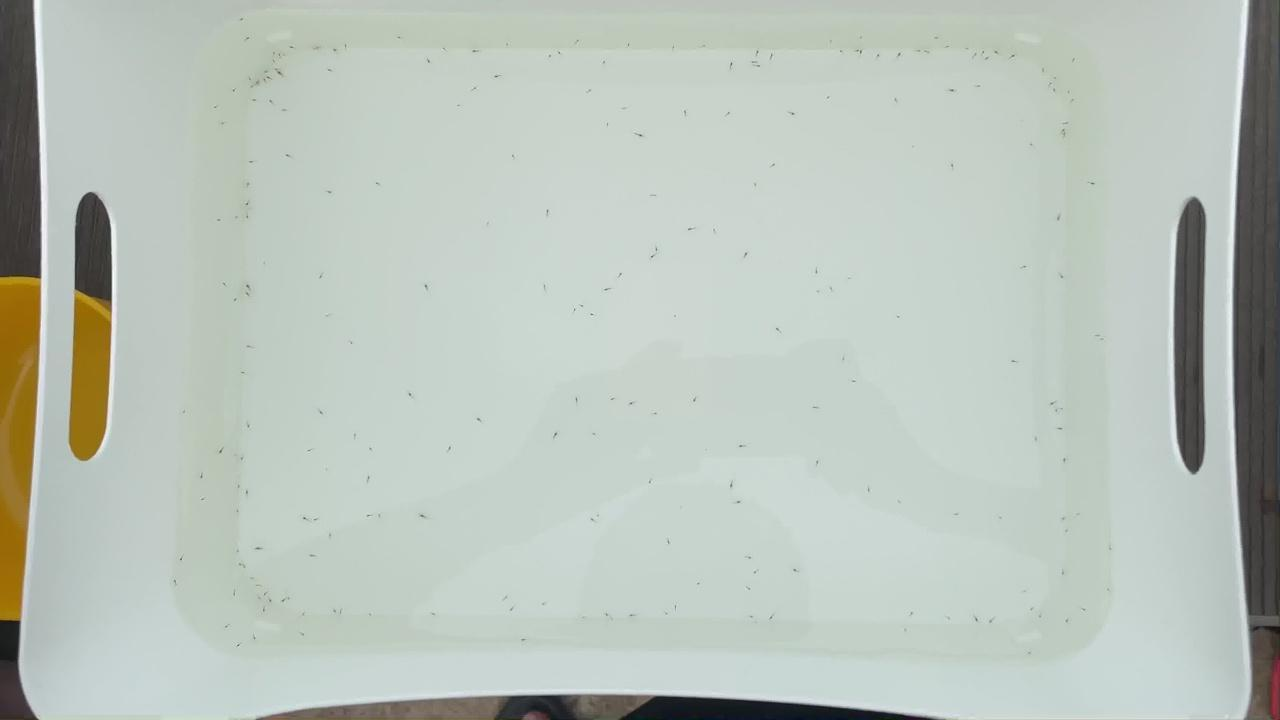shrimp: (1022, 140, 1035, 148), (945, 162, 958, 170), (753, 63, 766, 71), (747, 57, 760, 65), (624, 41, 637, 49), (1060, 456, 1073, 464), (742, 550, 755, 558), (605, 617, 618, 625), (592, 511, 605, 519), (688, 395, 701, 403), (570, 307, 583, 315), (585, 312, 598, 320), (499, 235, 512, 243), (455, 102, 468, 110), (283, 152, 296, 160), (242, 279, 255, 287), (209, 102, 222, 110), (241, 35, 254, 43), (245, 346, 258, 354), (215, 445, 228, 453), (231, 511, 244, 519), (231, 484, 244, 492), (334, 606, 347, 614), (238, 545, 251, 553), (262, 589, 275, 597), (266, 595, 279, 603), (280, 595, 293, 603), (961, 46, 973, 54), (895, 52, 907, 60), (1056, 273, 1068, 281), (1056, 423, 1068, 431), (1105, 589, 1117, 597), (892, 313, 904, 321), (843, 275, 855, 283), (827, 287, 839, 295), (812, 289, 824, 297), (811, 267, 823, 275), (838, 355, 850, 363), (851, 380, 863, 388), (863, 485, 875, 493), (892, 497, 904, 505), (1080, 606, 1092, 614), (1063, 616, 1075, 624), (1025, 652, 1037, 660), (1036, 611, 1048, 619), (1028, 604, 1040, 612), (1021, 588, 1033, 596), (987, 616, 999, 624), (971, 615, 983, 623), (944, 611, 956, 619), (906, 610, 918, 618), (901, 627, 913, 635), (811, 461, 823, 469), (809, 404, 821, 412), (772, 329, 784, 337), (741, 252, 753, 260), (752, 185, 764, 193), (769, 162, 781, 170), (725, 107, 737, 115), (681, 110, 693, 118), (790, 567, 802, 575), (546, 52, 558, 60), (469, 46, 481, 54), (230, 295, 242, 303), (264, 74, 276, 82), (324, 63, 336, 71), (330, 46, 342, 54), (197, 473, 209, 481), (363, 511, 375, 519), (252, 594, 264, 602), (1088, 184, 1101, 191), (910, 142, 923, 149), (947, 84, 960, 91), (974, 81, 987, 88), (1058, 132, 1071, 139), (1058, 127, 1071, 134), (1058, 119, 1071, 126), (1065, 98, 1078, 105), (1064, 87, 1077, 94), (1050, 89, 1063, 96), (1050, 75, 1063, 82), (1068, 57, 1081, 64), (1008, 53, 1021, 60), (990, 49, 1003, 56), (976, 47, 989, 54), (970, 52, 983, 59), (941, 45, 954, 52), (929, 35, 942, 42), (924, 46, 937, 53), (913, 47, 926, 54), (873, 55, 886, 62), (857, 50, 870, 57), (852, 50, 865, 57), (855, 33, 868, 40), (826, 39, 839, 46), (825, 92, 838, 99), (785, 110, 798, 117), (752, 50, 765, 57), (765, 55, 778, 62), (724, 62, 737, 69), (701, 45, 714, 52), (1053, 209, 1066, 216), (1013, 262, 1026, 269), (1092, 331, 1105, 338), (1097, 338, 1110, 345), (1053, 403, 1066, 410), (1029, 434, 1042, 441), (996, 515, 1009, 522), (949, 511, 962, 518), (1057, 572, 1070, 579), (750, 420, 763, 427), (737, 445, 750, 452), (725, 481, 738, 488), (733, 499, 746, 506), (748, 570, 761, 577), (742, 587, 755, 594), (747, 614, 760, 621), (671, 602, 684, 609), (660, 609, 673, 616), (694, 582, 707, 589), (624, 610, 637, 617), (519, 636, 532, 643), (507, 605, 520, 612), (499, 592, 512, 599), (536, 602, 549, 609), (586, 517, 599, 524), (665, 537, 678, 544), (626, 401, 639, 408), (607, 394, 620, 401), (589, 431, 602, 438), (550, 430, 563, 437), (572, 397, 585, 404), (576, 300, 589, 307), (538, 283, 551, 290), (481, 219, 494, 226), (541, 208, 554, 215), (601, 287, 614, 294), (616, 269, 629, 276), (669, 311, 682, 318), (648, 254, 661, 261), (711, 229, 724, 236), (651, 248, 664, 255), (648, 189, 661, 196), (621, 105, 634, 112), (581, 87, 594, 94), (600, 57, 613, 64), (570, 40, 583, 47), (554, 47, 567, 54), (437, 46, 450, 53), (423, 55, 436, 62), (394, 37, 407, 44), (507, 154, 520, 161), (371, 160, 384, 167), (373, 180, 386, 187), (322, 189, 335, 196), (243, 158, 256, 165), (241, 179, 254, 186), (245, 196, 258, 203), (243, 210, 256, 217), (228, 209, 241, 216), (216, 279, 229, 286), (260, 259, 273, 266), (318, 270, 331, 277), (419, 281, 432, 288), (216, 118, 229, 125), (227, 87, 240, 94), (251, 98, 264, 105), (268, 97, 281, 104), (280, 107, 293, 114), (248, 82, 261, 89), (241, 74, 254, 81), (260, 78, 273, 85), (259, 66, 272, 73), (238, 18, 251, 25), (268, 59, 281, 66), (267, 48, 280, 55), (276, 50, 289, 57), (288, 46, 301, 53), (340, 44, 353, 51), (404, 388, 417, 395), (237, 367, 250, 374), (243, 424, 256, 431), (238, 455, 251, 462), (177, 407, 190, 414), (198, 492, 211, 499), (242, 489, 255, 496), (304, 446, 317, 453), (314, 409, 327, 416), (351, 434, 364, 441), (364, 446, 377, 453), (445, 447, 458, 454), (476, 417, 489, 424), (364, 609, 377, 616), (375, 513, 388, 520), (364, 475, 377, 482), (323, 532, 336, 539), (305, 555, 318, 562), (299, 514, 312, 521), (329, 610, 342, 617), (296, 633, 309, 640), (299, 609, 312, 616), (249, 635, 262, 642), (233, 643, 246, 650), (222, 623, 235, 630), (229, 590, 242, 597), (169, 581, 182, 588), (176, 553, 189, 560), (238, 564, 251, 571), (233, 563, 246, 570), (254, 544, 267, 551), (247, 577, 260, 584), (277, 598, 290, 605), (889, 98, 901, 105), (1045, 81, 1057, 88), (1039, 68, 1051, 75), (983, 53, 995, 60), (839, 48, 851, 55), (668, 44, 680, 51), (1006, 355, 1018, 362), (1050, 398, 1062, 405), (1056, 518, 1068, 525), (1061, 529, 1073, 536), (1105, 545, 1117, 552), (767, 614, 779, 621), (601, 613, 613, 620), (579, 615, 591, 622), (645, 476, 657, 483), (651, 410, 663, 417), (684, 228, 696, 235), (635, 134, 647, 141), (601, 120, 613, 127), (502, 46, 514, 53), (468, 87, 480, 94), (491, 73, 503, 80), (214, 216, 226, 223), (241, 292, 253, 299), (253, 78, 265, 85), (274, 70, 286, 77), (308, 44, 320, 51), (346, 339, 358, 346), (324, 310, 336, 317), (413, 511, 425, 518), (429, 609, 441, 616), (313, 514, 325, 521), (258, 605, 270, 612)
